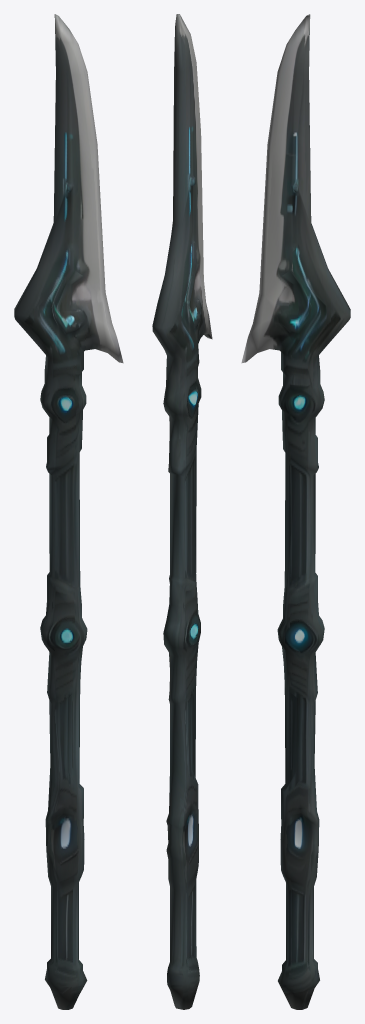
Rendered from fierce_lance.glb.
3 renders of one model, left to right at view 1: azimuth 90°, elevation 25°; view 2: azimuth 150°, elevation 25°; view 3: azimuth 270°, elevation 25°, orthographic.
Visible parts, largest first — view 1: fierce_lance; view 2: fierce_lance; view 3: fierce_lance.
Boxes of the visible parts, x1,y1,x2,y2 form: fierce_lance: (14,14,123,1009); fierce_lance: (152,14,212,1009); fierce_lance: (241,14,350,1009).
Bounding box in the file's own units: 0.0532 × 1.9 × 0.1897.
Materials: 1 (1 with a texture image).
